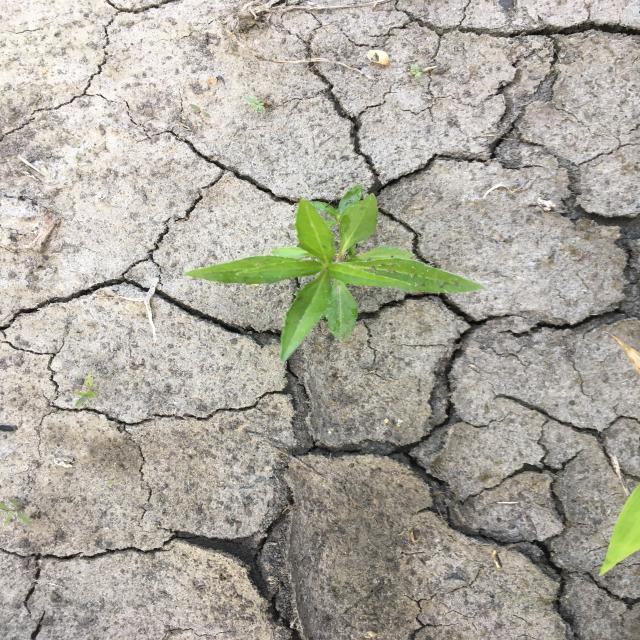Eclipta: (180, 182, 488, 364)
